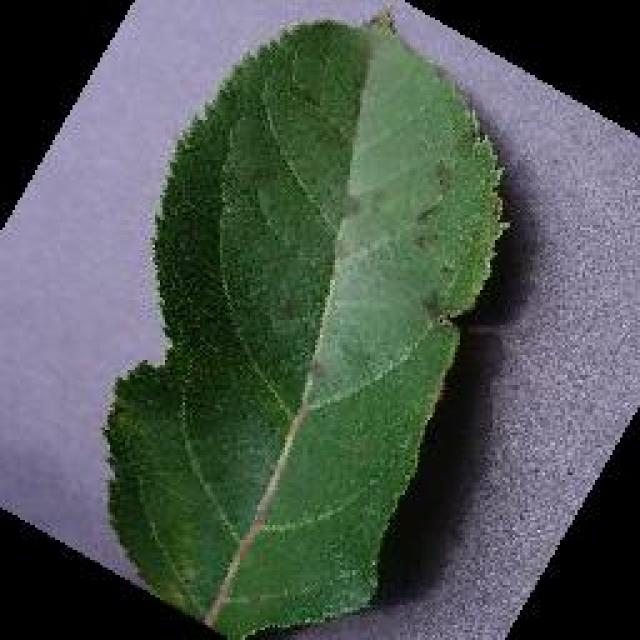apple scab disease: (98, 10, 512, 638)
